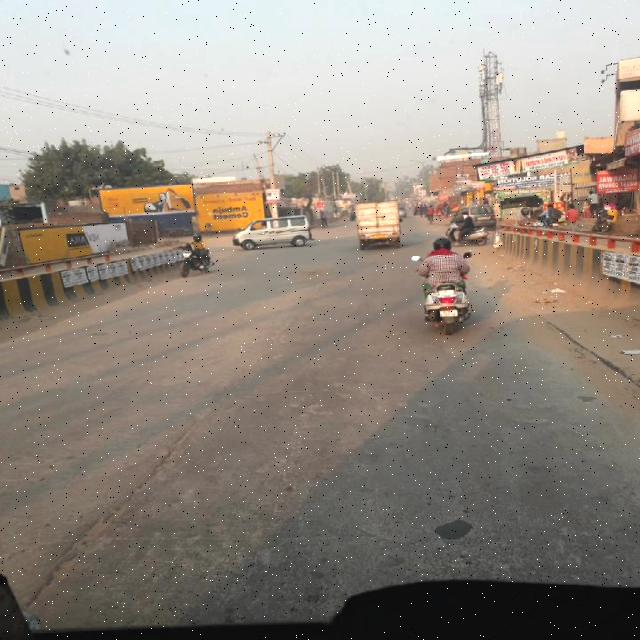D01: (24, 429, 193, 606)
